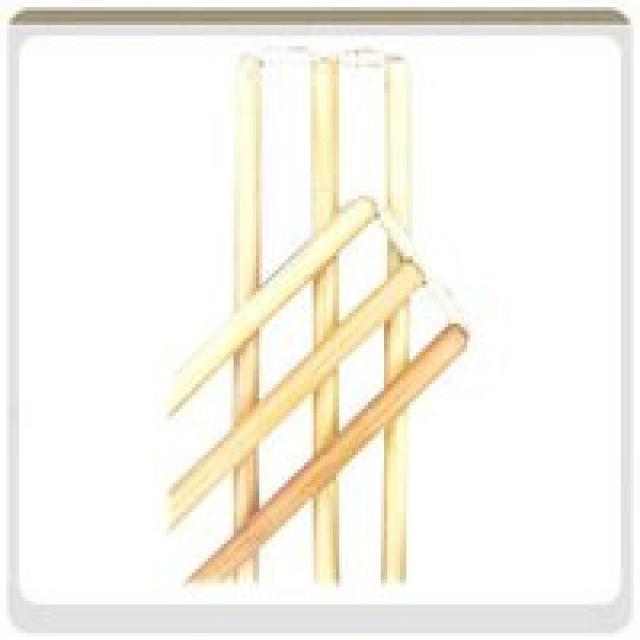stump: (236, 44, 409, 584)
